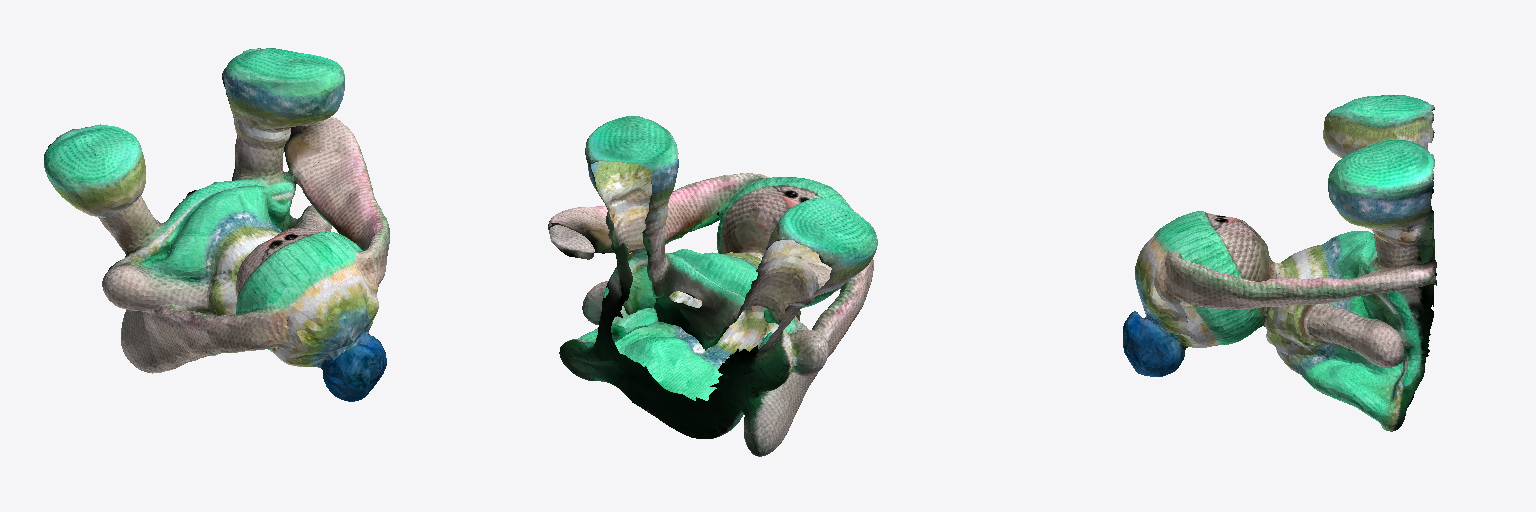
3 views of the same model, side by side, from view 1: azimuth 30°, elevation 25°; view 2: azimuth 150°, elevation 25°; view 3: azimuth 270°, elevation 25° (orthographic).
Visible parts, largest first — view 1: puppet; view 2: puppet; view 3: puppet.
Boxes of the visible parts, box(x1,y1,x2,y2) form: puppet: box(44, 48, 389, 401); puppet: box(548, 116, 877, 456); puppet: box(1123, 95, 1436, 431).
Bounding box in the file's own units: 0.5881 × 0.5232 × 0.5274.
Materials: 1 (1 with a texture image).